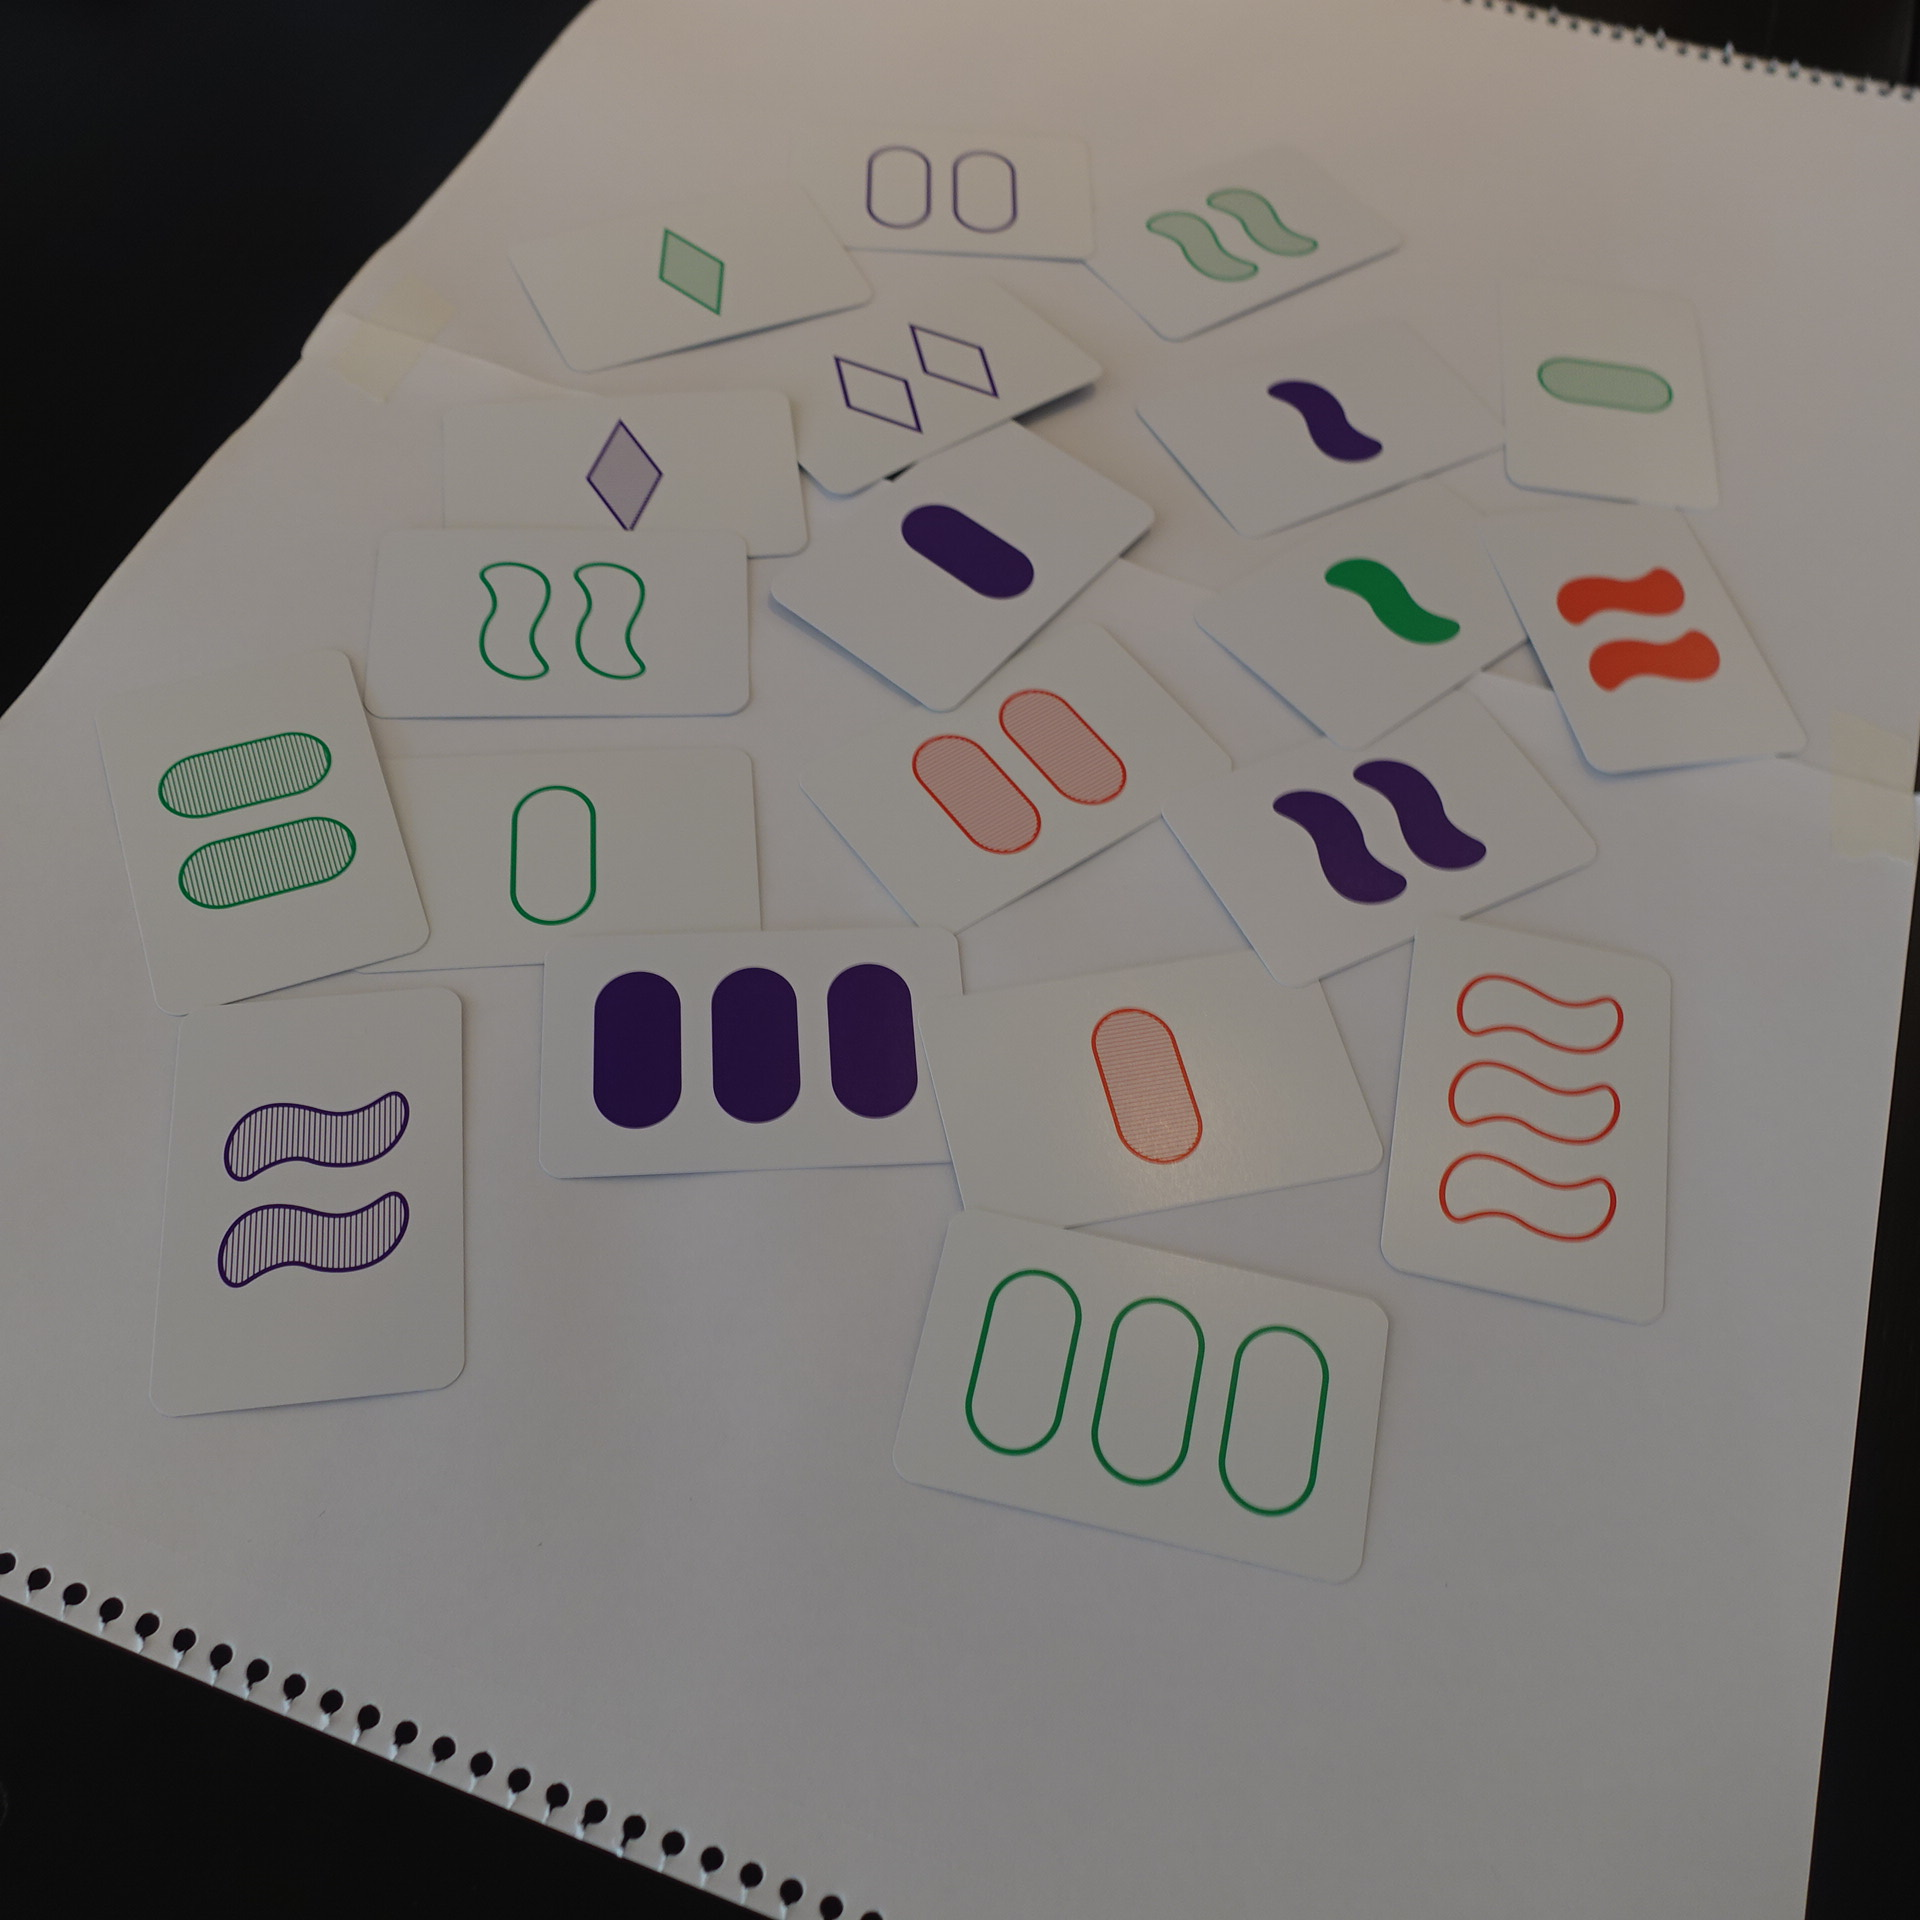c-1-f-o-p: (761, 410, 1159, 714)
c-1-f-s-g: (1197, 478, 1574, 740)
c-1-f-s-p: (1131, 320, 1505, 529)
c-1-h-d-g: (508, 178, 876, 376)
c-1-h-d-p: (433, 383, 809, 571)
c-1-h-o-g: (1500, 262, 1723, 513)
c-1-h-o-r: (911, 955, 1377, 1233)
c-1-u-o-g: (348, 754, 772, 978)
c-2-f-s-p: (1166, 680, 1595, 979)
c-2-f-s-r: (1487, 515, 1807, 777)
c-2-h-o-g: (88, 644, 429, 1009)
c-2-h-o-r: (795, 622, 1233, 939)
c-2-h-s-g: (1076, 137, 1408, 343)
c-2-h-s-p: (169, 986, 468, 1417)
c-2-u-d-p: (747, 274, 1097, 496)
c-2-u-o-p: (818, 120, 1101, 264)
c-2-u-s-g: (360, 527, 754, 721)
c-3-f-o-p: (533, 920, 965, 1182)
c-3-u-o-g: (888, 1211, 1393, 1589)
c-3-u-s-r: (1384, 916, 1677, 1320)
